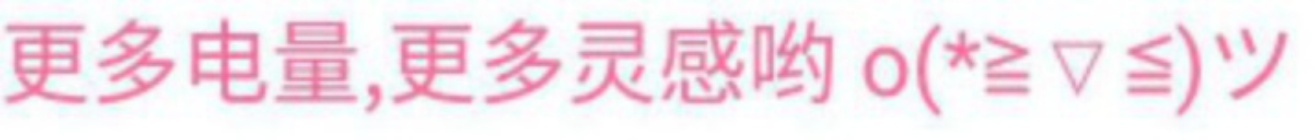TextView: (1, 1, 1314, 139)
